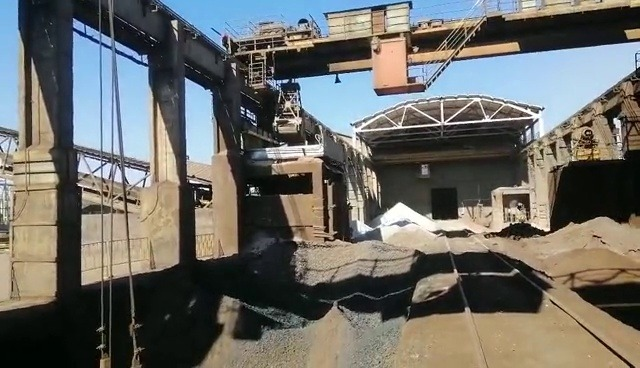grab: (272, 77, 302, 134)
